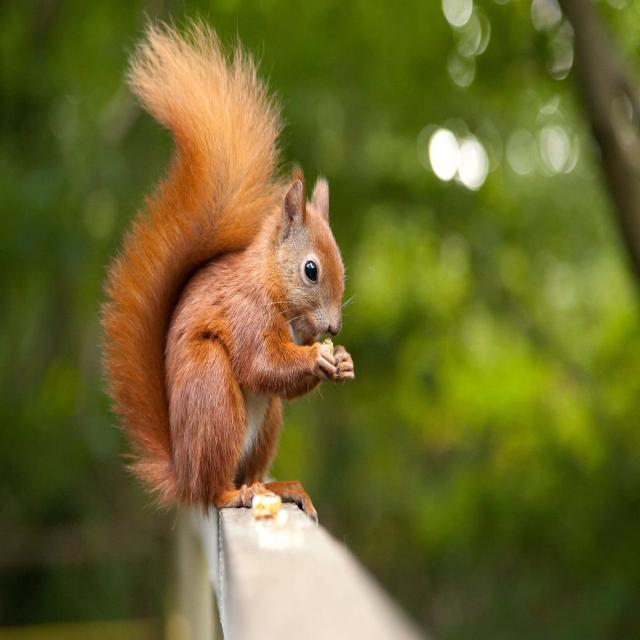Squirrel: (96, 18, 345, 520)
